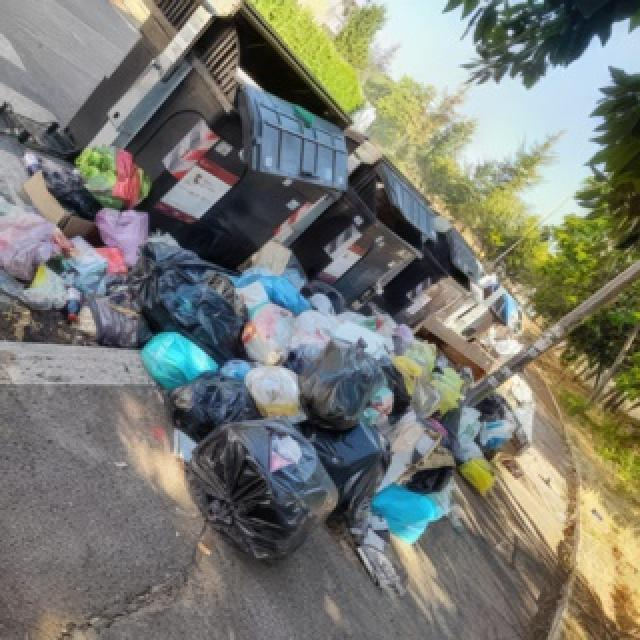Trashbag: (195, 426, 341, 550), (136, 242, 246, 354), (313, 420, 392, 513), (307, 346, 376, 422), (174, 376, 256, 435), (383, 360, 412, 412)
